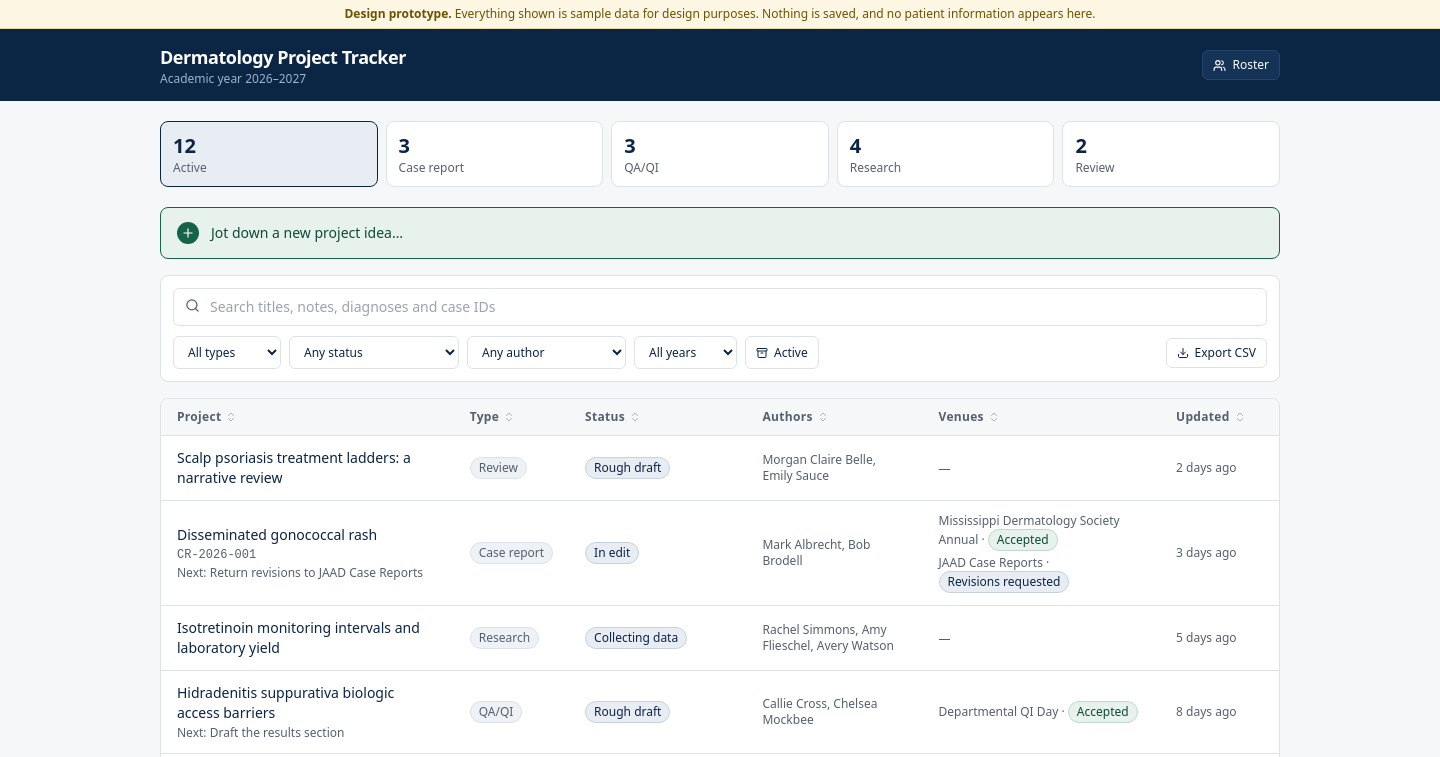
Test: clicking a person's name › shows everything they have done, active and archived together
This screenshot has width=1440, height=757.
Click the button "Roster" at (1241, 65), box [1202,50,1280,80]
(page scrolled)
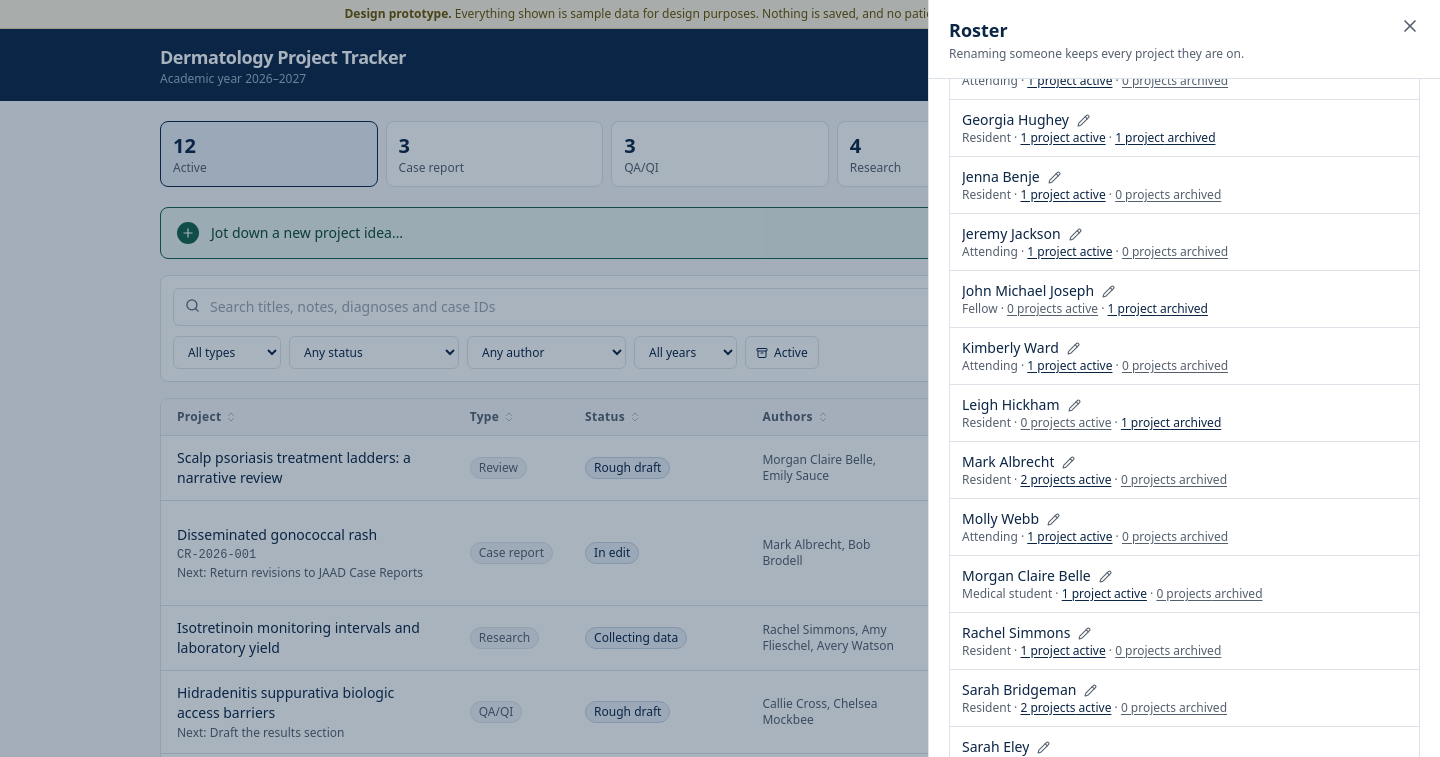
Click the button "Leigh Hickham" at (1011, 405), box [962,395,1060,415]
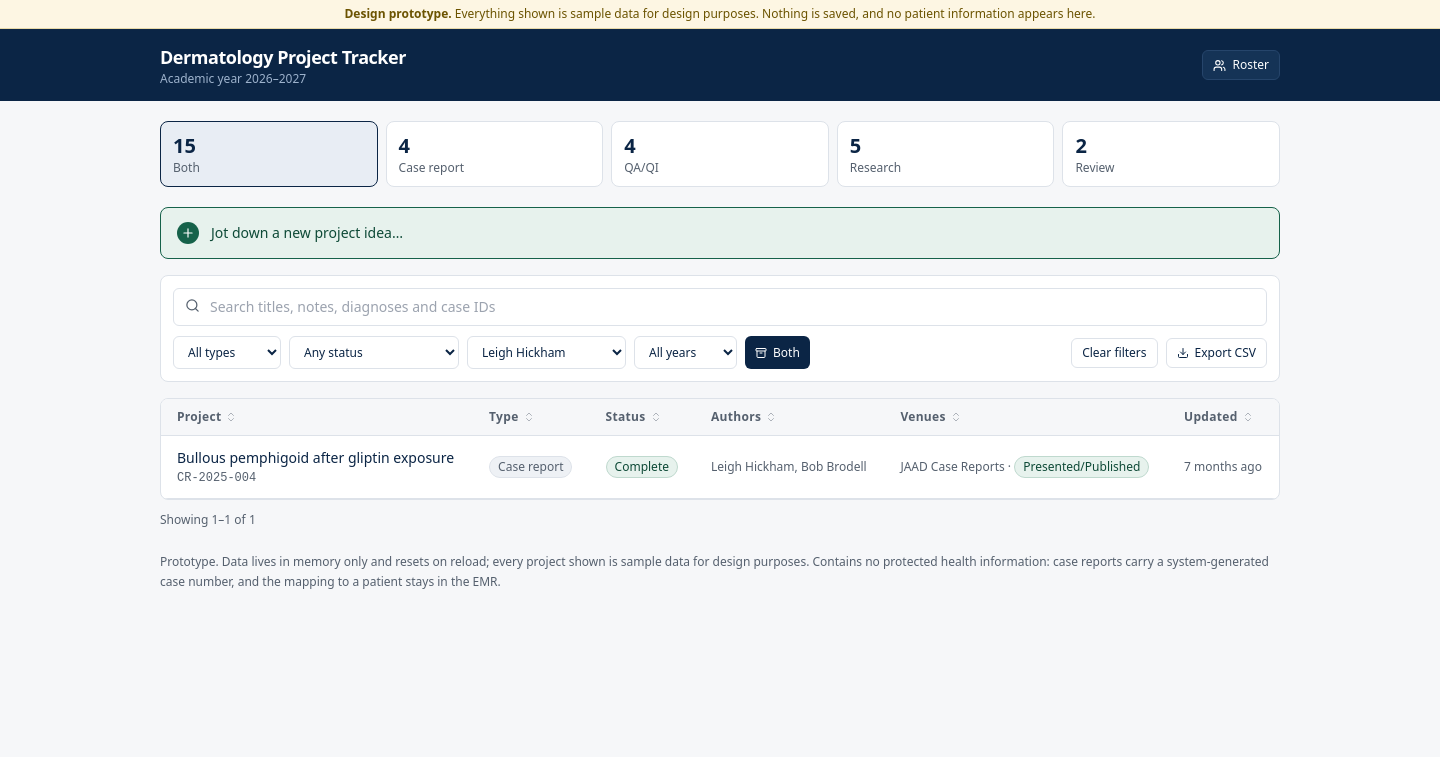
Expected: the button with aria-label "Showing both projects" is shown, [745,336,810,369]
